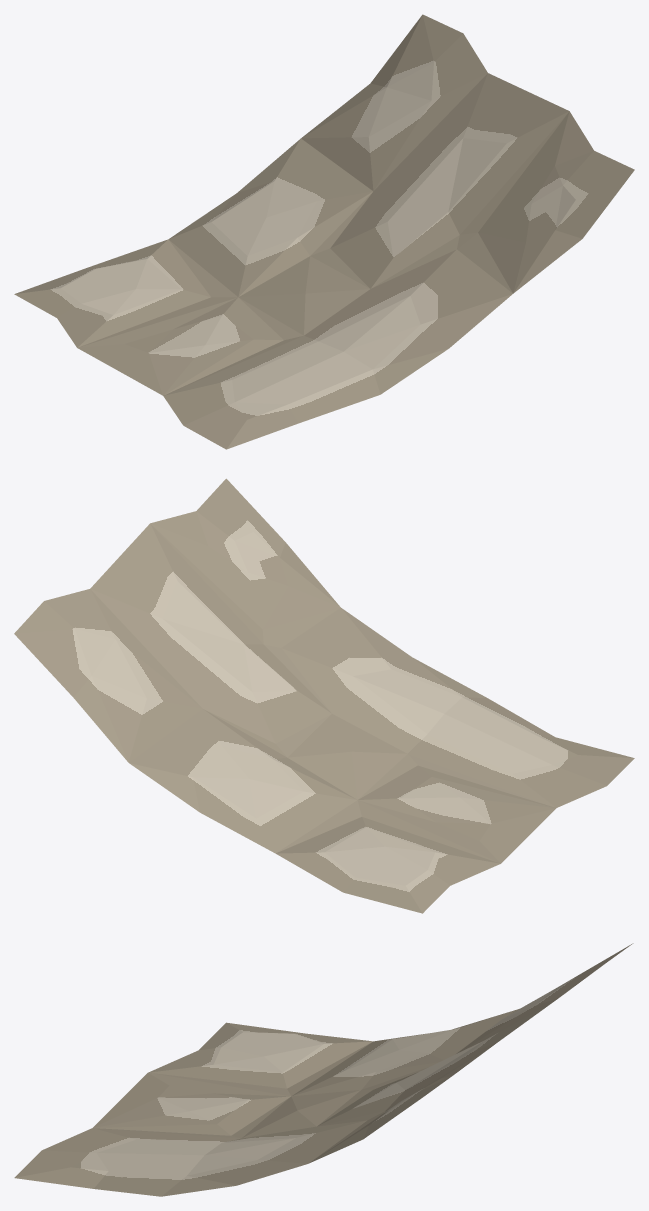
File: SoftArch_02.fbx
3 views of the same model, one above another, from view 1: azimuth 30°, elevation 25°; view 2: azimuth 150°, elevation 25°; view 3: azimuth 330°, elevation 25° (orthographic).
Visible parts, largest first — view 1: SoftArch_02; view 2: SoftArch_02; view 3: SoftArch_02.
Boxes of the visible parts, x1,y1,x2,y2 form: SoftArch_02: (14, 14, 634, 449); SoftArch_02: (14, 478, 634, 913); SoftArch_02: (14, 943, 633, 1196).
Bounding box in the file's own units: 115 × 48.3 × 103.
1 material, 1 textured.
